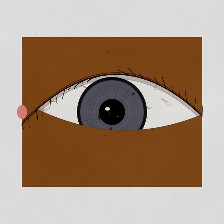pterygium_lesion: (24, 100, 53, 124)
